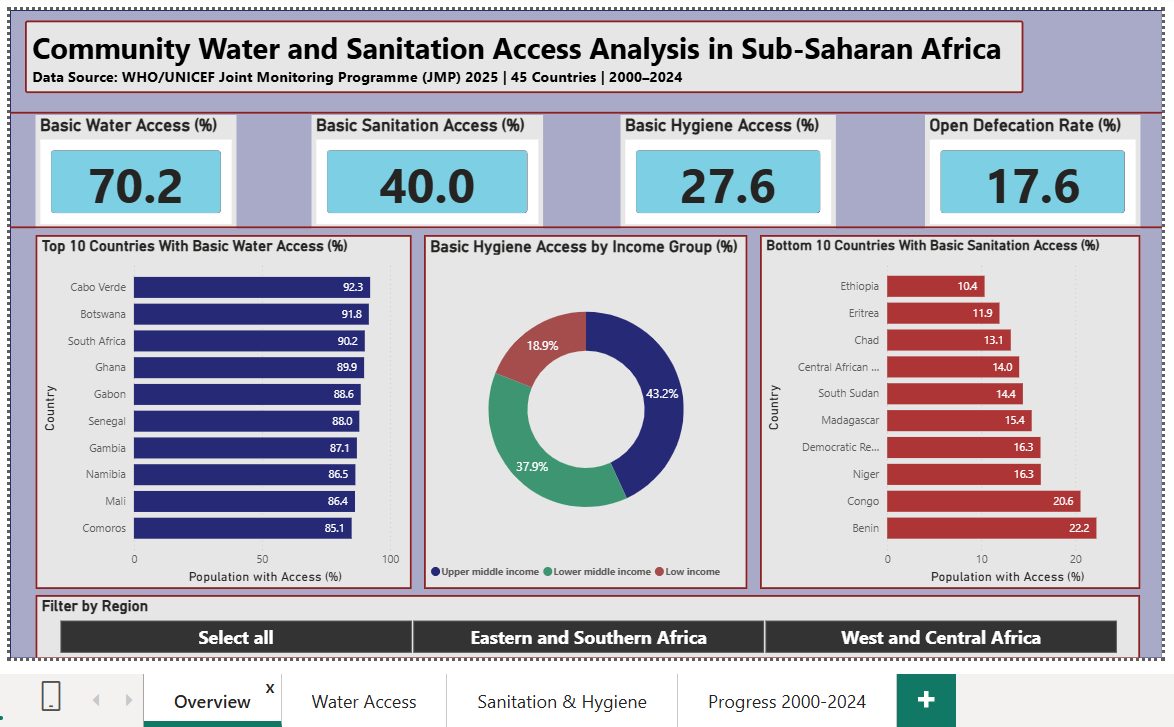

This screenshot's page, from the dashboard's own definition file:
{"tool":"powerbi","page":{"name":"Overview","canvas":[1280,720],"ordinal":0},"visuals":[{"type":"shape","box":[0,0,1280.8,720.6],"z":0},{"type":"clusteredBarChart","title":"Top 10 Countries With Basic Water Access (%)","fields":{"Category":["water_latest.Country"],"Y":["Avg(water_latest.Water_Basic_Total)"]},"box":[29.1,249.4,417.8,393.5],"z":1000},{"type":"textbox","box":[16.2,11.3,1109.2,81],"z":2000},{"type":"cardVisual","title":"Basic Water Access (%)","fields":{"Data":["Avg(water_latest.Water_Basic_Total)"]},"box":[27.5,116.6,223.5,126.3],"z":3000},{"type":"cardVisual","title":"Basic Sanitation Access (%)","fields":{"Data":["Avg(sanitation_latest.San_Basic_Total)"]},"box":[335.2,116.6,257.5,126.3],"z":4000},{"type":"cardVisual","title":"Basic Hygiene Access (%)","fields":{"Data":["Avg(hygiene_latest.Hyg_Basic_Total)"]},"box":[678.5,116.6,239.6,126.3],"z":5000},{"type":"cardVisual","title":"Open Defecation Rate (%)","fields":{"Data":["Avg(sanitation_latest.San_OpenDefecation_Total)"]},"box":[1016.9,116.6,239.6,126.3],"z":6000},{"type":"shape","box":[0,92.3,1280.8,299.6],"z":7000},{"type":"shape","box":[0,29.1,1280.8,171.6],"z":8000},{"type":"clusteredBarChart","title":"Bottom 10 Countries With Basic Sanitation Access (%)","fields":{"Category":["sanitation_latest.Country"],"Y":["Avg(sanitation_latest.San_Basic_Total)"]},"box":[833.9,249.4,422.6,393.5],"z":9000},{"type":"donutChart","title":"Basic Hygiene Access by Income Group (%)","fields":{"Category":["hygiene_latest.Income_Group"],"Y":["Avg(hygiene_latest.Hyg_Basic_Total)"]},"box":[459.9,249.4,359.5,393.5],"z":10000},{"type":"slicer","title":"Filter by Region","fields":{"Values":["water_latest.UNICEF_Region"]},"box":[29.1,649.3,1227.4,71.2],"z":11000}]}

Visuals, with their boxes in screenshot pixels (x1, y1, x2, y2):
shape: locate(3, 3, 1162, 655)
"Top 10 Countries With Basic Water Access (%)" clusteredBarChart: locate(29, 229, 407, 585)
textbox: locate(18, 13, 1021, 87)
"Basic Water Access (%)" cardVisual: locate(28, 109, 230, 223)
"Basic Sanitation Access (%)" cardVisual: locate(306, 109, 539, 223)
"Basic Hygiene Access (%)" cardVisual: locate(617, 109, 833, 223)
"Open Defecation Rate (%)" cardVisual: locate(923, 109, 1140, 223)
shape: locate(3, 87, 1162, 358)
shape: locate(3, 29, 1162, 185)
"Bottom 10 Countries With Basic Sanitation Access (%)" clusteredBarChart: locate(757, 229, 1140, 585)
"Basic Hygiene Access by Income Group (%)" donutChart: locate(419, 229, 744, 585)
"Filter by Region" slicer: locate(29, 590, 1140, 655)
